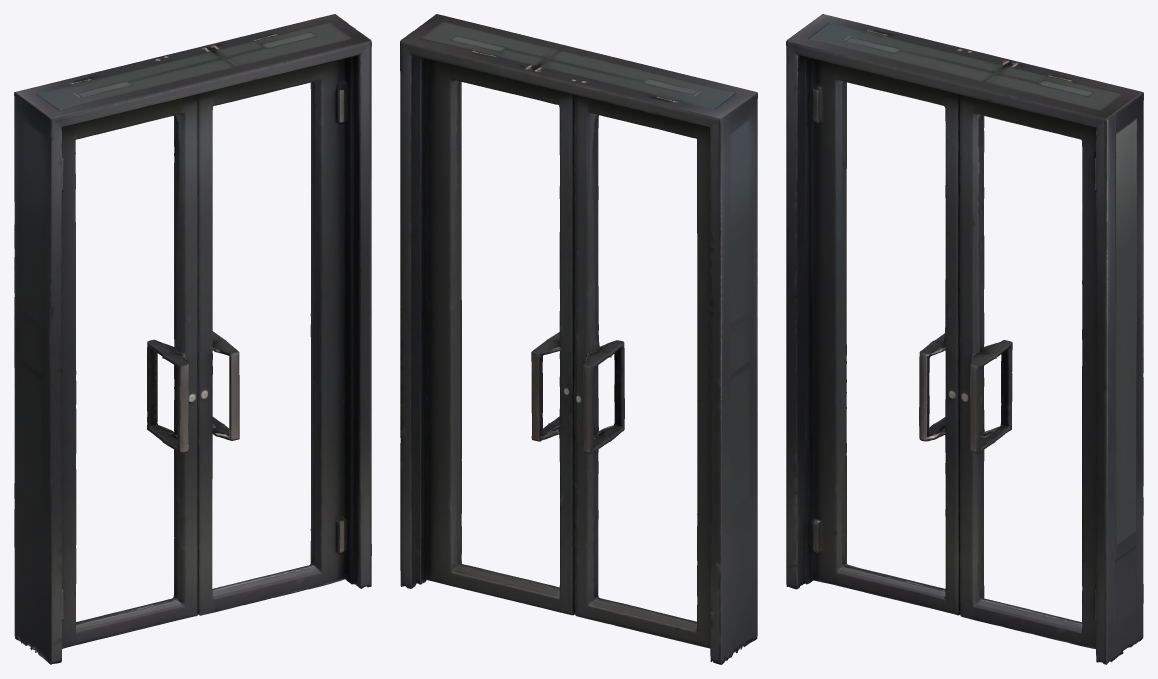
The model's file is doppelfluegel-rahmen.glb.
The picture shows the model from 3 angles, left to right: view 1: azimuth 30°, elevation 25°; view 2: azimuth 150°, elevation 25°; view 3: azimuth 330°, elevation 25°; orthographic projection.
Size of the model in its own units: 1.23 by 2 by 0.2488.
Materials: 1 (1 with a texture image).
